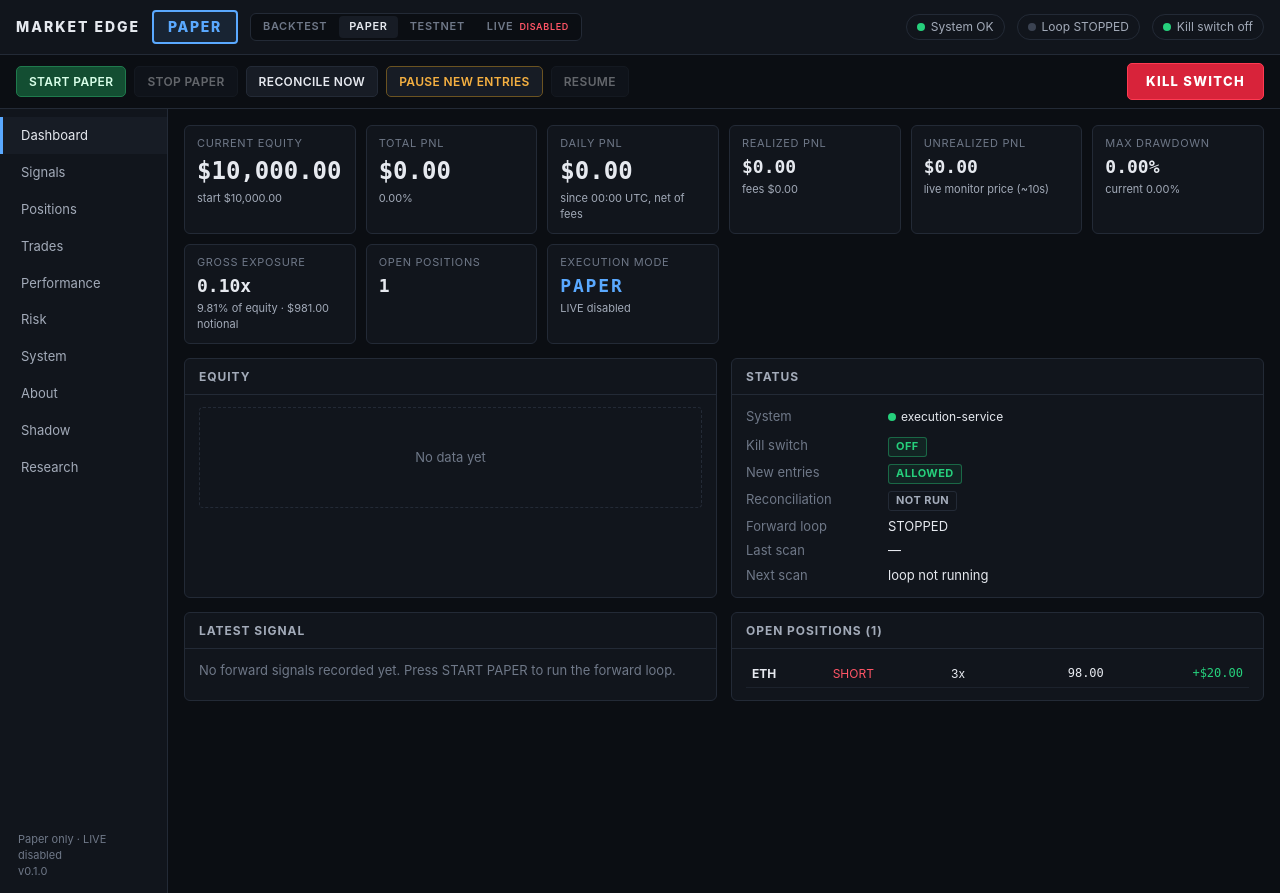
Test: Trade Detail entry points › opens from Trade History, and Escape returns
Click the button "Trades".
click(84, 246)  # box [0, 228, 167, 264]
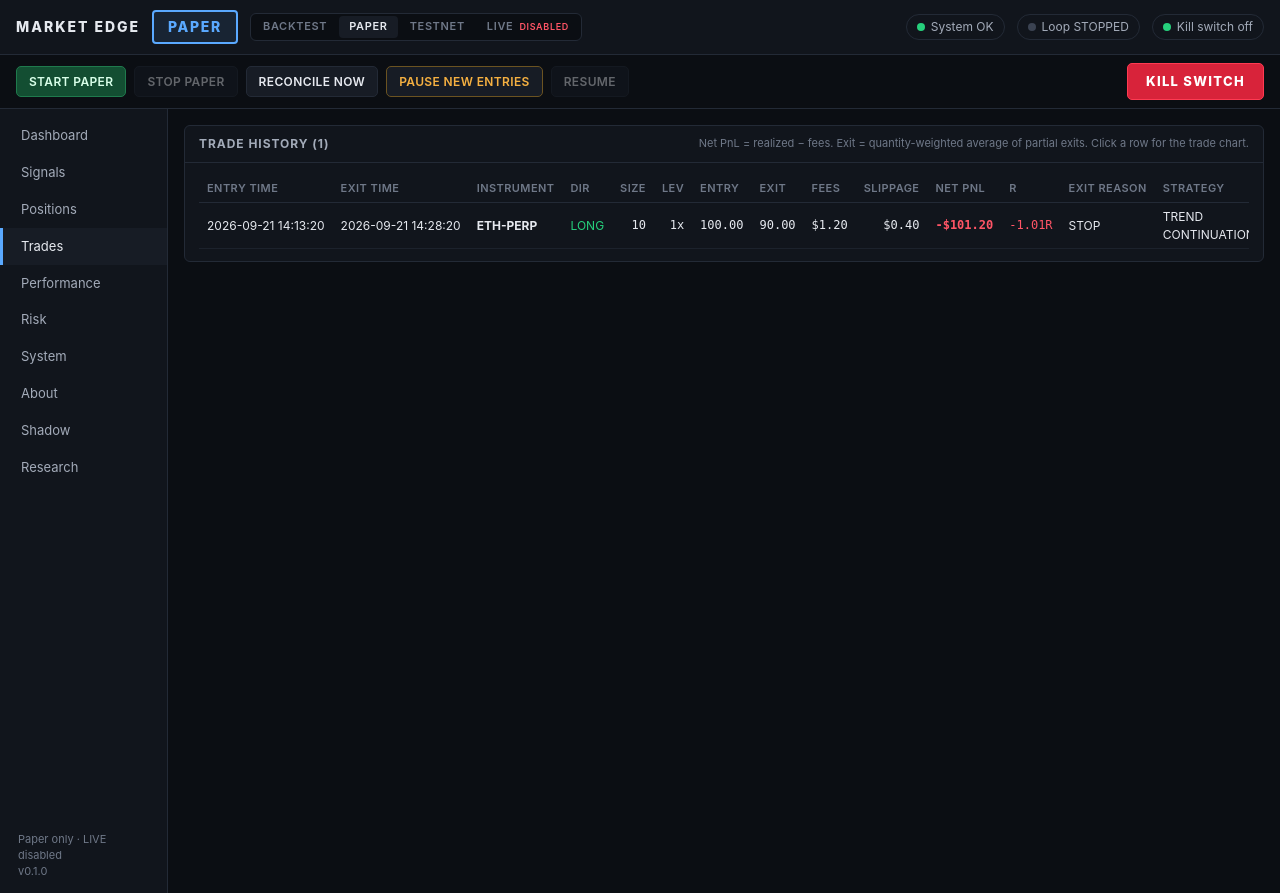
Click the text "ETH-PERP".
click(740, 226)  # box [199, 203, 1279, 249]
(page scrolled)
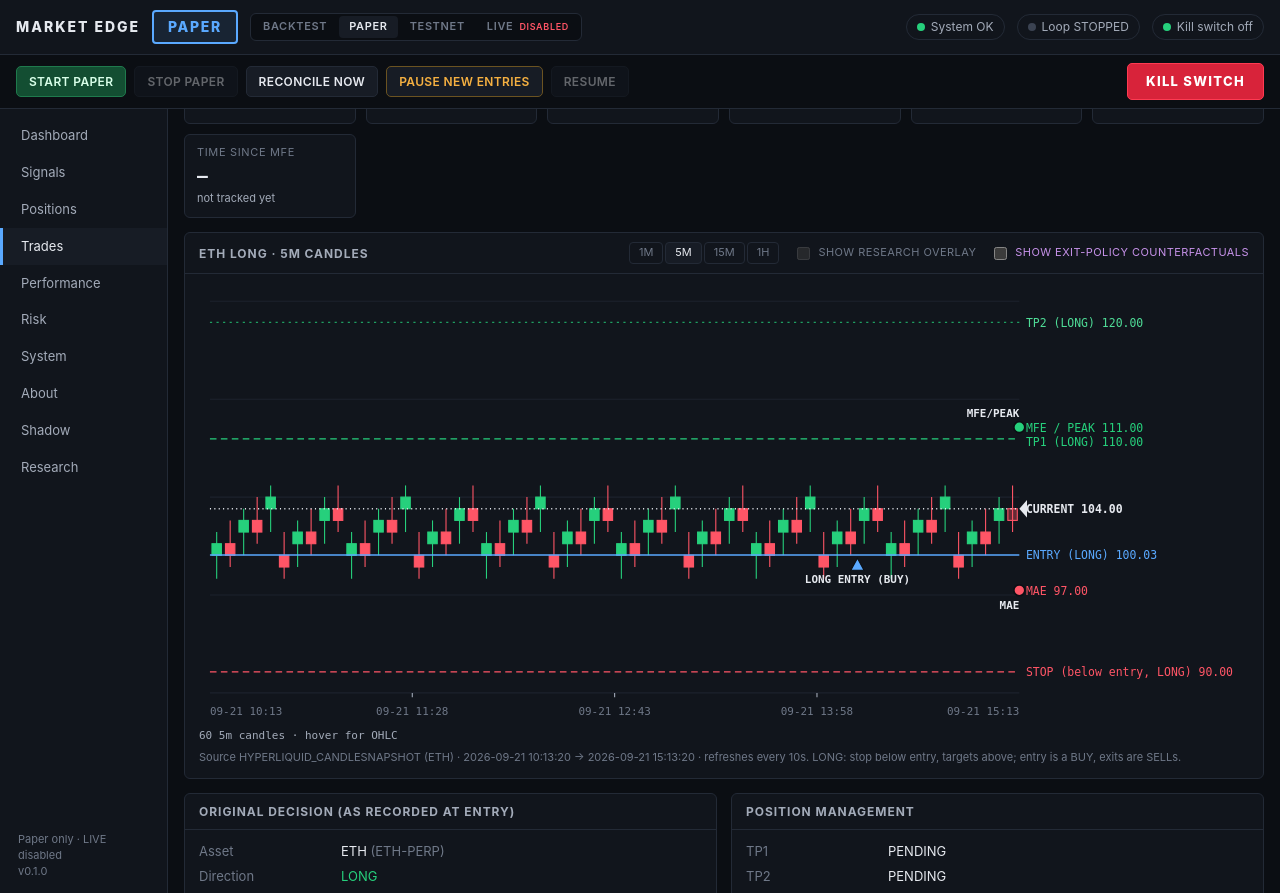
Now the picture named "ETH LONG trade chart" is shown, box [199, 286, 1249, 724]
Press Escape
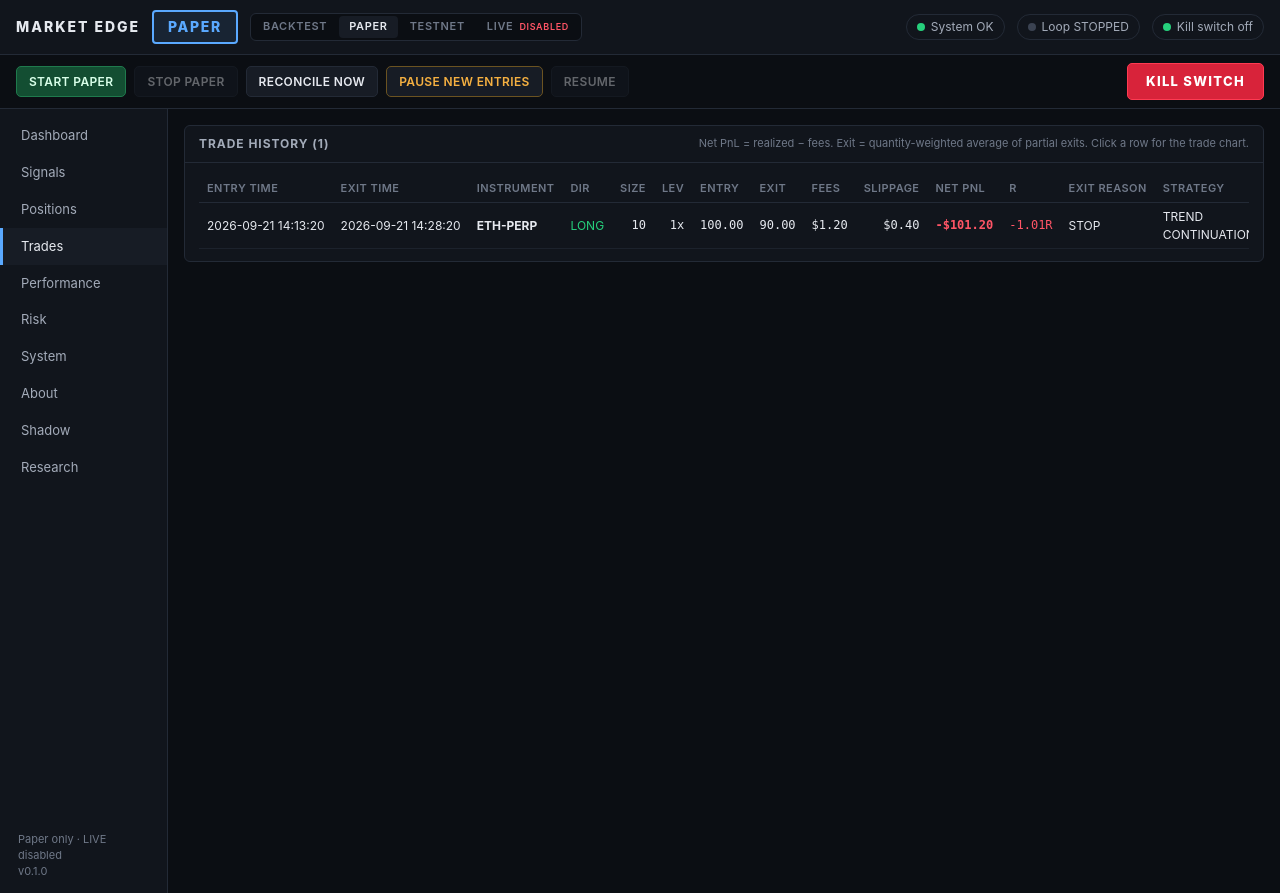
Now the picture "ETH LONG trade chart" is gone
